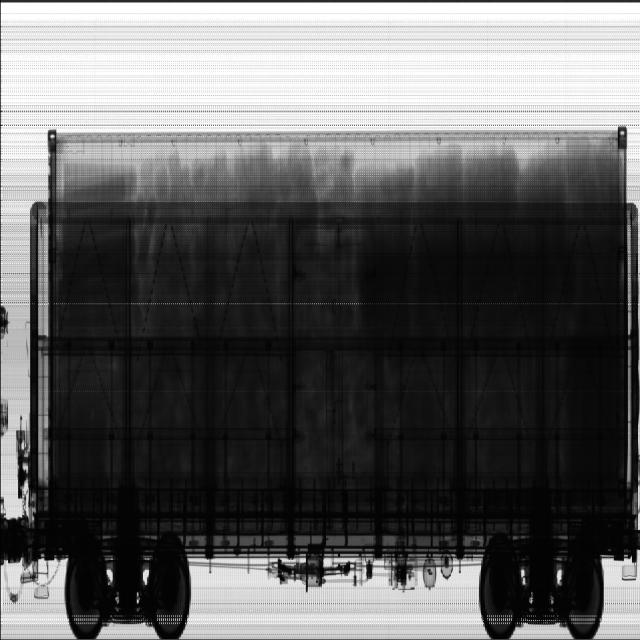clothes: (355, 141, 622, 516)
fabrics: (60, 161, 149, 329)
